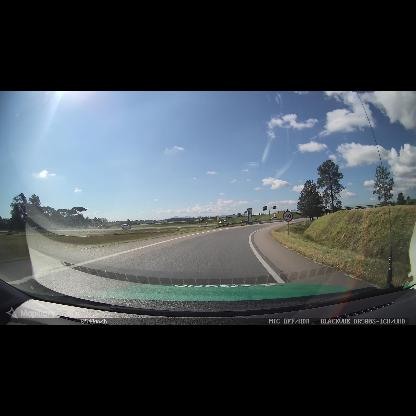O-MP: (206, 222, 208, 229)
R-19: (283, 211, 293, 222)
